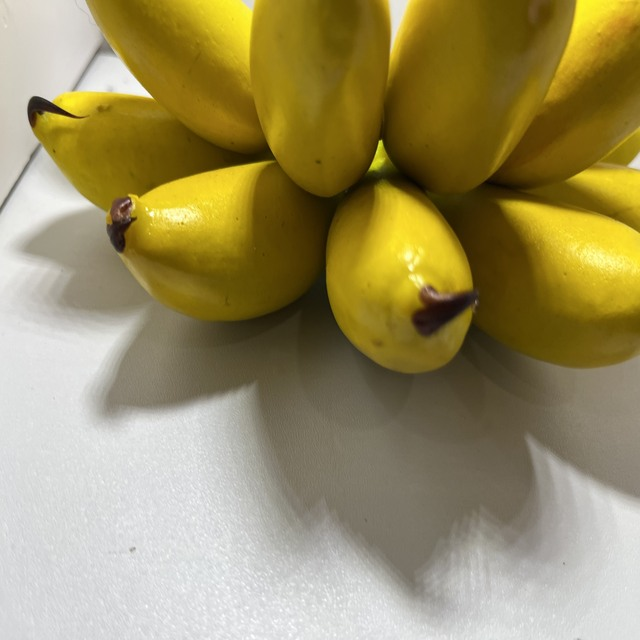Chuoi: (16, 0, 640, 375)
